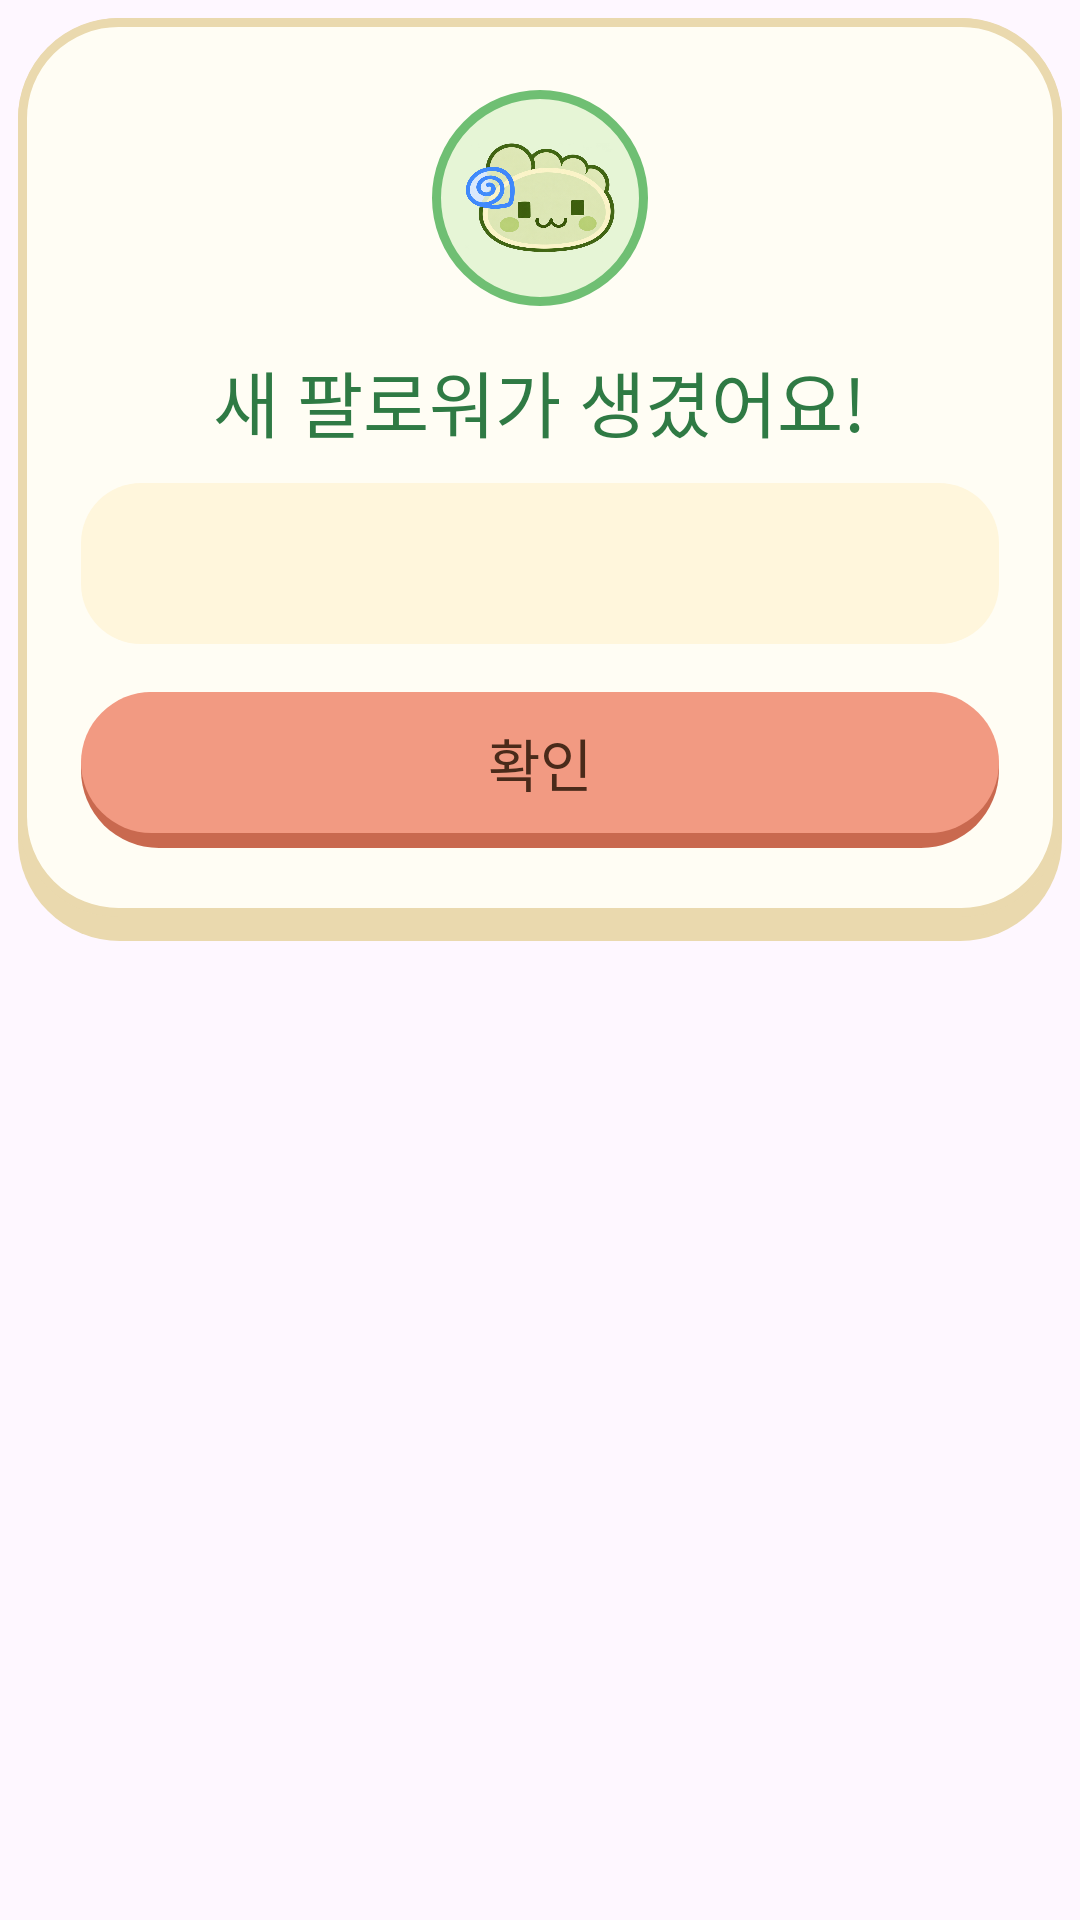

Where to tap for icons on this 1080 × 1920 app screen, as (x=x, y=y):
mascot: (x=540, y=198)
